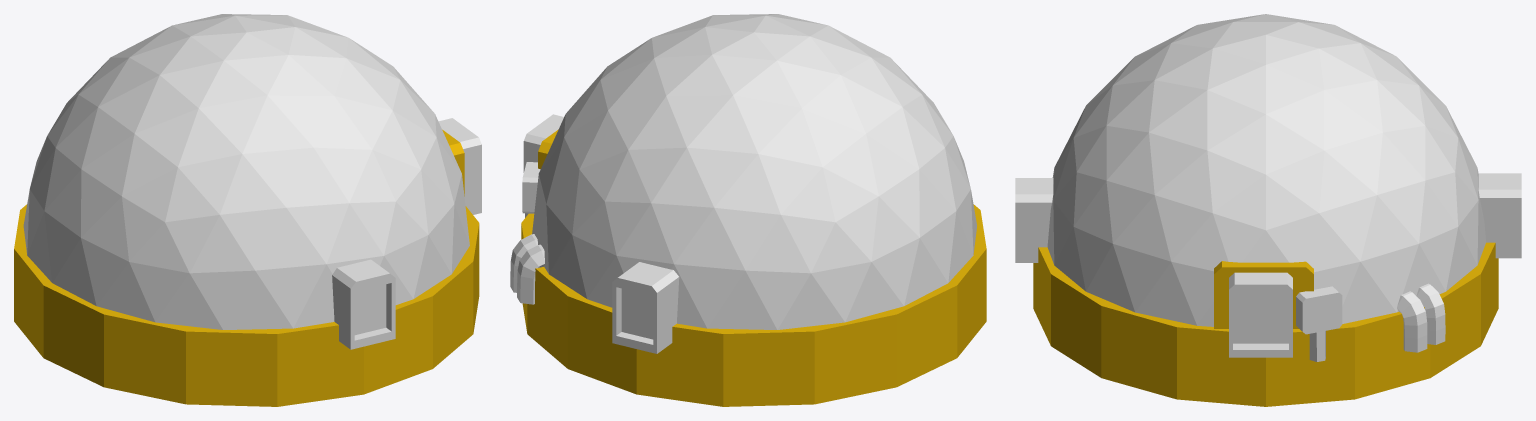
Rendered from LargeHouse.glb.
The picture shows the model from 3 angles, left to right: view 1: azimuth 30°, elevation 25°; view 2: azimuth 150°, elevation 25°; view 3: azimuth 270°, elevation 25°; orthographic projection.
Visible parts, largest first — view 1: Cube.026, Cube.027, Cube.029; view 2: Cube.026, Cube.028, Cube.029; view 3: Cube.026, Cube.029, Cube.028, Cube.027.
Boxes of the visible parts, x1,y1,x2,y2 form: Cube.026: (14,14,479,406); Cube.027: (332,259,395,349); Cube.029: (438,118,481,214); Cube.026: (510,14,986,406); Cube.028: (612,262,679,353); Cube.029: (523,114,563,172); Cube.026: (1033,14,1498,406); Cube.029: (1229,272,1292,357); Cube.028: (1478,173,1521,258); Cube.027: (1015,178,1053,262).
Size of the model in its own units: 11.58 by 7.28 by 12.2.
